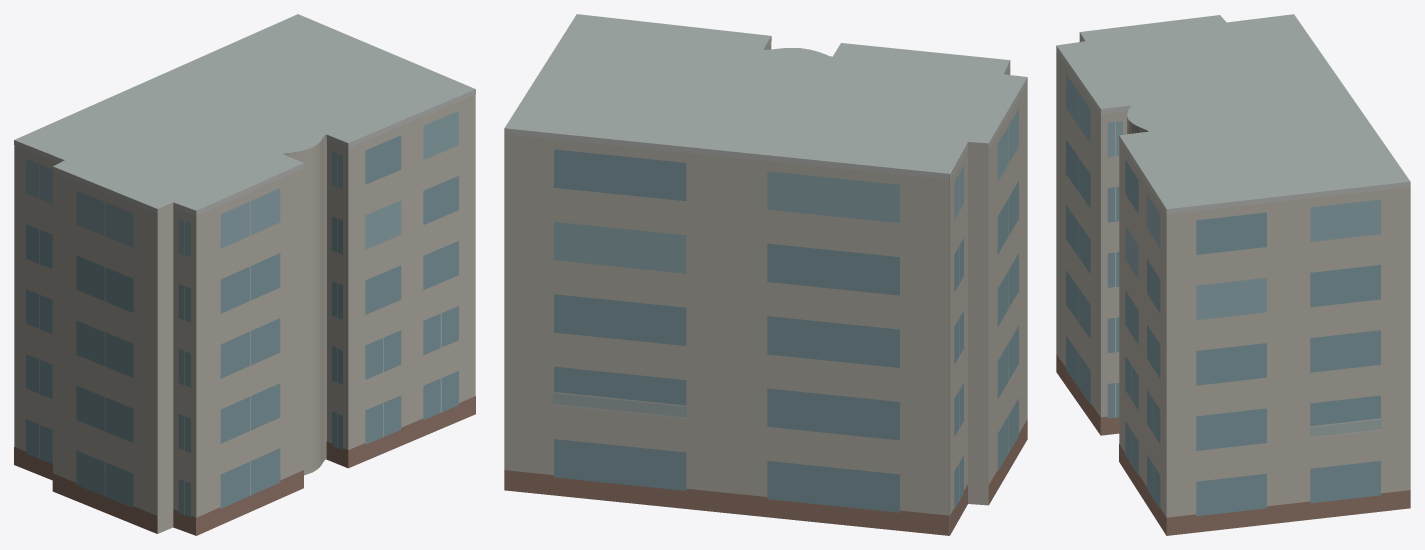
Rendered from survey-upis-32772861.glb.
3 views of the same model, side by side, from view 1: azimuth 30°, elevation 25°; view 2: azimuth 150°, elevation 25°; view 3: azimuth 270°, elevation 25° (orthographic). The views are drawn at different scales.
Parts seen in each view (by area): view 1: survey-upis-32772861.tmp; view 2: survey-upis-32772861.tmp; view 3: survey-upis-32772861.tmp.
Part boxes in pixels (x1,y1,x2,y2): survey-upis-32772861.tmp: [14, 14, 475, 535]; survey-upis-32772861.tmp: [504, 14, 1027, 535]; survey-upis-32772861.tmp: [1056, 14, 1410, 535].
Bounding box in the file's own units: 19.56 × 15.25 × 15.
